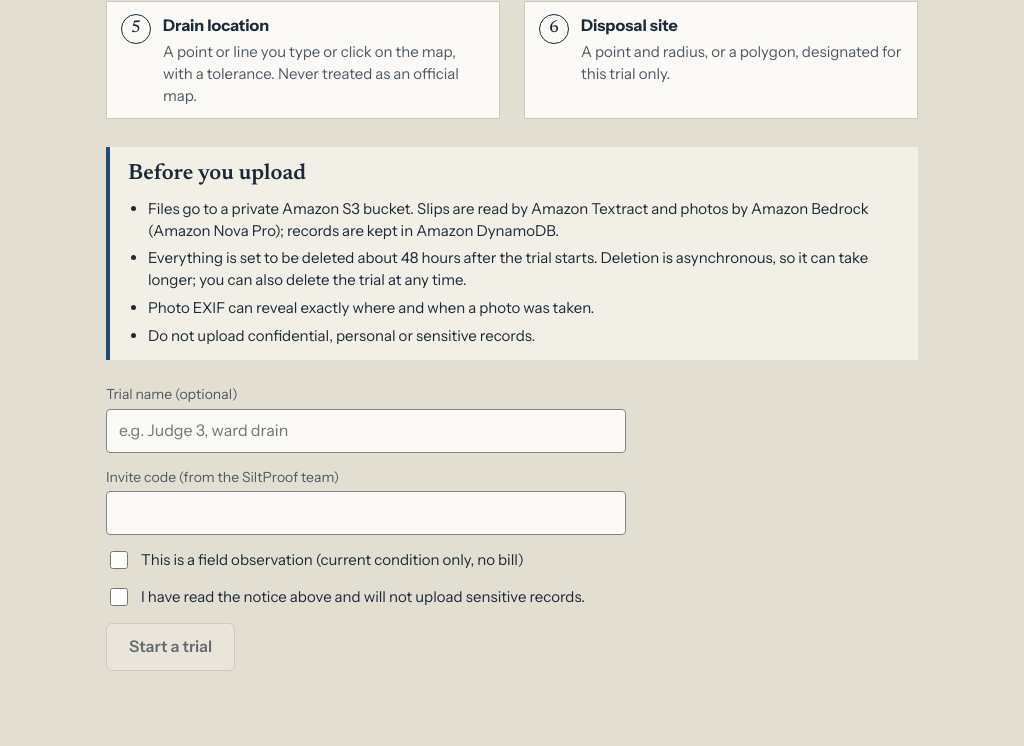
Test: judge trial › creates a trial and keeps its token only for this tab
The width and height of the screenshot is (1024, 746).
(page scrolled)
expect the button "Start a trial" is disabled: met, box top-left (106, 623), bottom-right (235, 671)
Step 1. Click the checkbox labelled "will not upload sensitive records" → click(119, 597), box top-left (110, 588), bottom-right (128, 606)
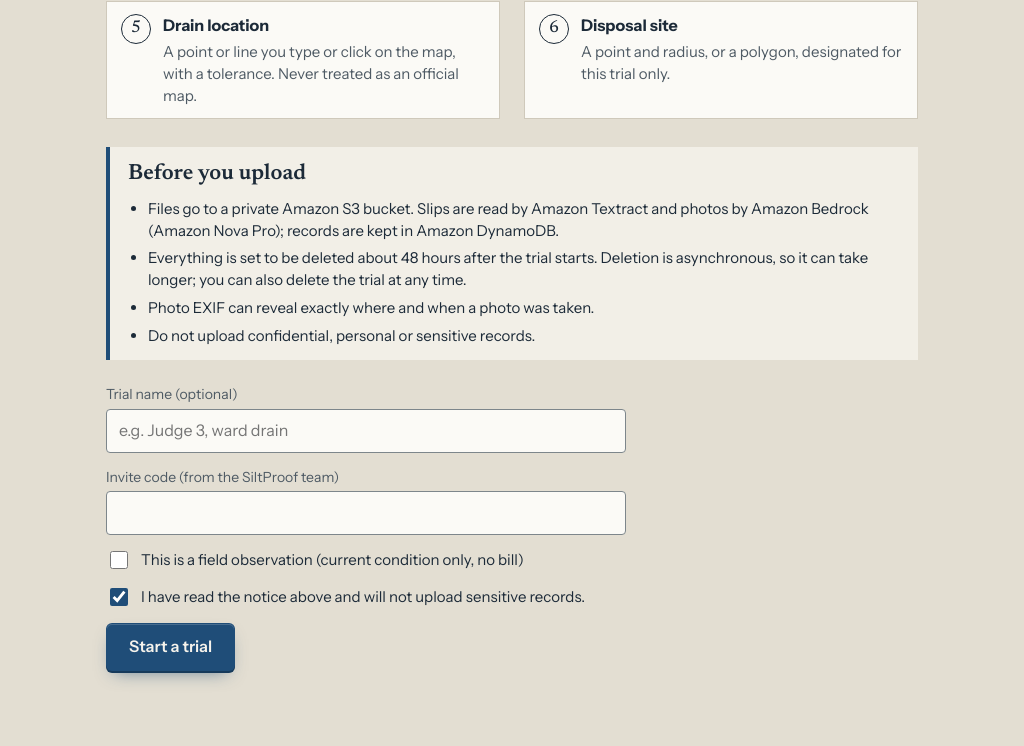
Step 2. Click the button "Start a trial" → click(171, 647), box top-left (106, 623), bottom-right (235, 671)
(page scrolled)
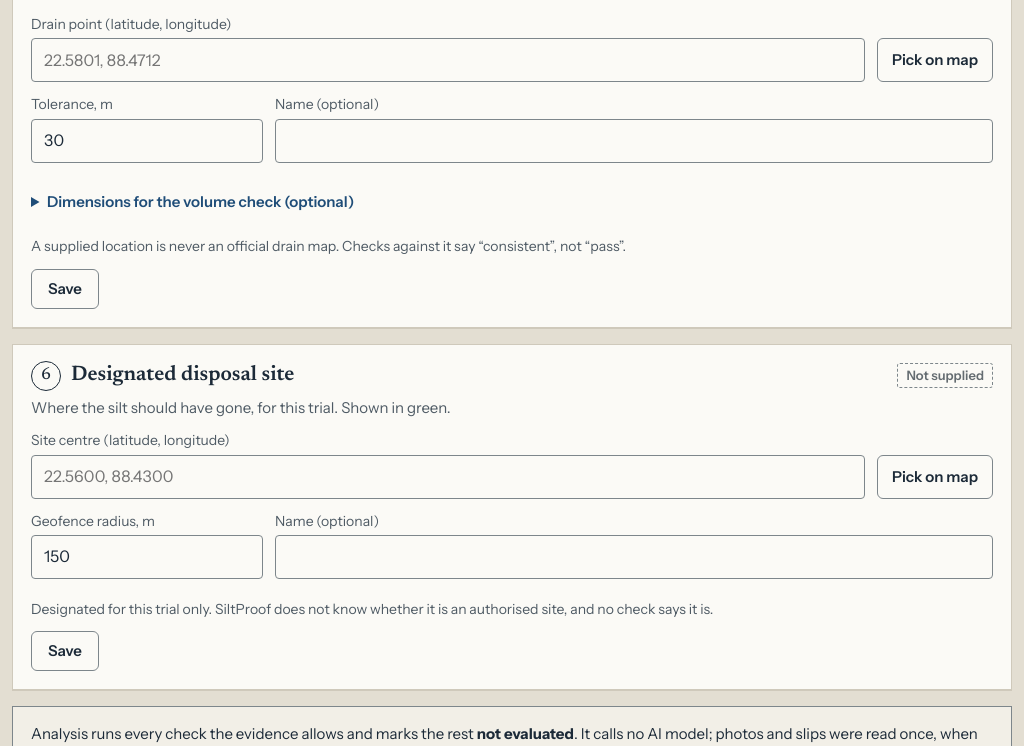
expect the heading "Designated disposal site" is shown: met, box top-left (71, 363), bottom-right (294, 388)
